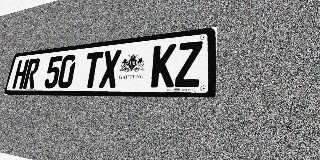0: (57, 54, 77, 88)
5: (43, 56, 63, 88)
H: (12, 59, 29, 89)
K: (150, 44, 177, 87)
R: (23, 58, 41, 89)
T: (82, 51, 104, 88)
X: (99, 49, 122, 88)
Z: (175, 41, 203, 87)
